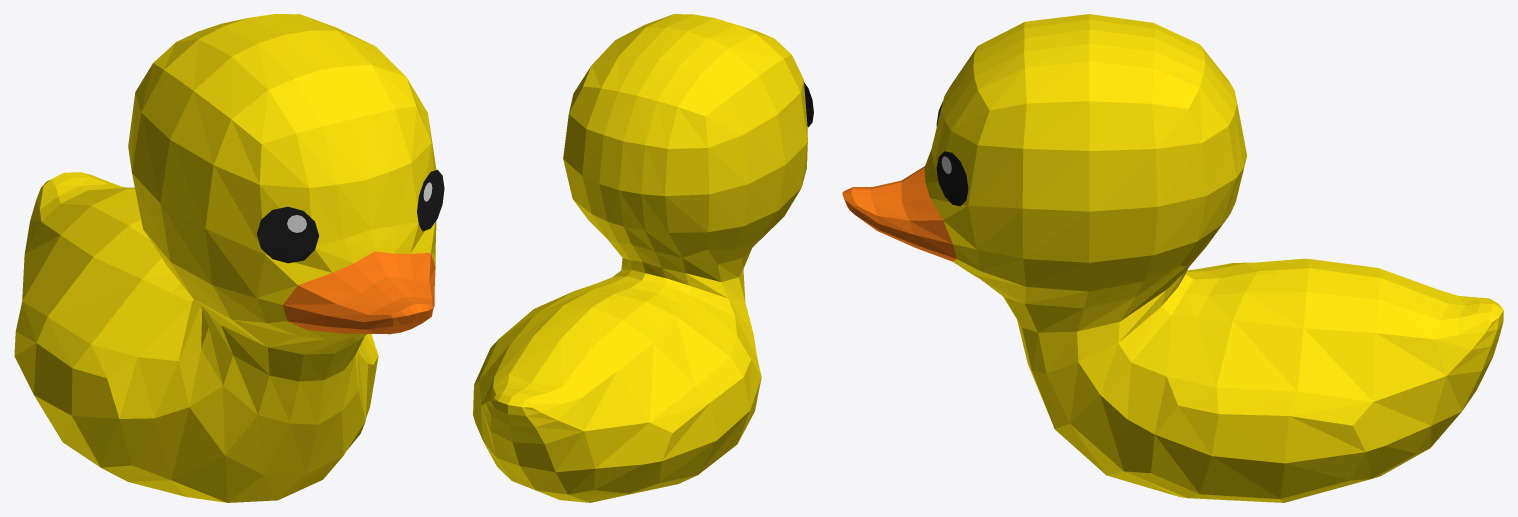
File: RubberDuckOffset.fbx
3 views of the same model, side by side, from view 1: azimuth 30°, elevation 25°; view 2: azimuth 150°, elevation 25°; view 3: azimuth 270°, elevation 25° (orthographic). The views are drawn at different scales.
Parts seen in each view (by area): view 1: RubberDuck_Yellow; view 2: RubberDuck_Yellow; view 3: RubberDuck_Yellow.
Part boxes in pixels (bbox=[...]): RubberDuck_Yellow: bbox=[14, 14, 444, 502]; RubberDuck_Yellow: bbox=[473, 14, 813, 502]; RubberDuck_Yellow: bbox=[842, 14, 1503, 502].
Size of the model in its own units: 57.78 by 93.42 by 124.
